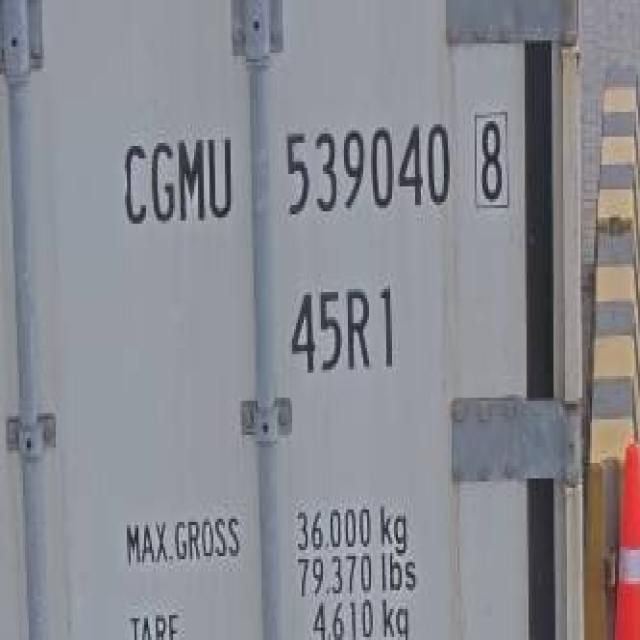dv: (469, 105, 515, 222)
owner: (116, 128, 235, 234)
serial: (279, 107, 454, 225)
size: (286, 277, 402, 382)
